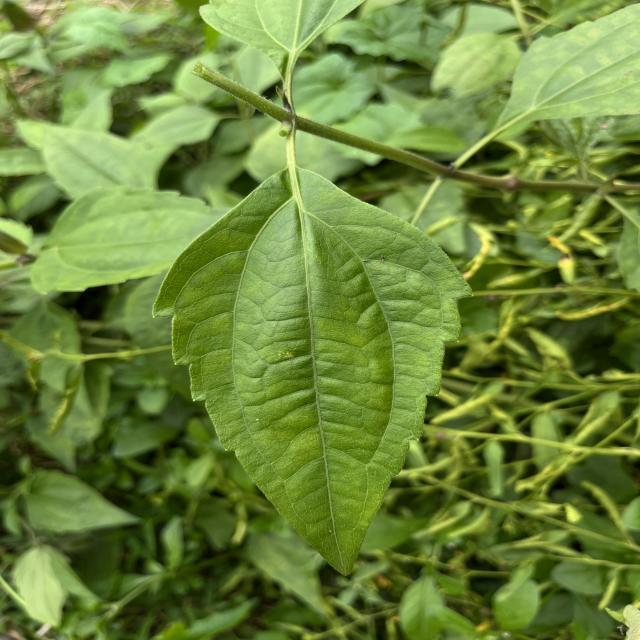Chromolaena odorata: (146, 163, 481, 582)
